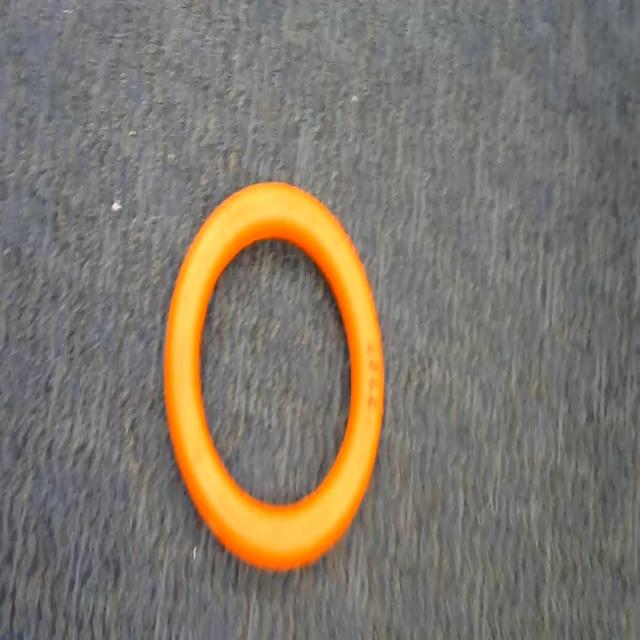note: (147, 182, 409, 581)
